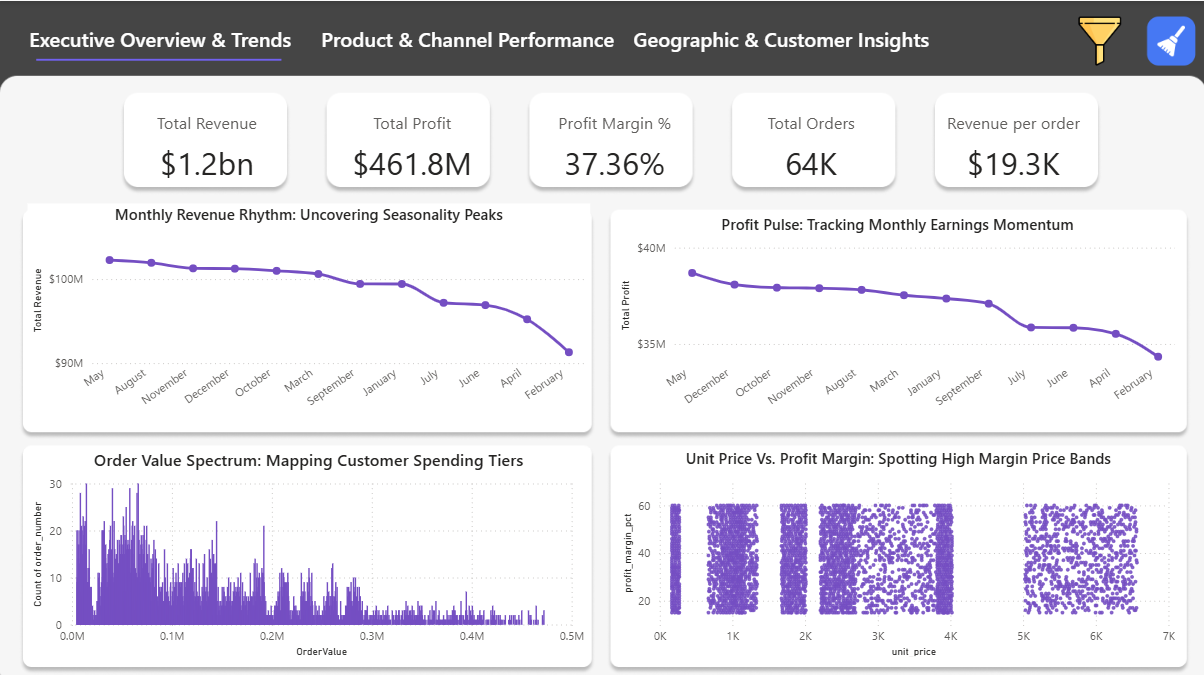

Layout of this report page (visuals, bound fields, positions):
{"tool":"powerbi","page":{"name":"Executive Overview & Trends","canvas":[1280,720],"ordinal":0},"visuals":[{"type":"cardVisual","title":"Total Revenue","fields":{"Data":["Measures_.Total Revenue"]},"box":[142,101,158,104],"z":0},{"type":"cardVisual","title":"Total Revenue","fields":{"Data":["Measures_.Total Profit"]},"box":[354.7,100.2,167,103.4],"z":1000},{"type":"cardVisual","title":"Total Revenue","fields":{"Data":["Measures_.Profit Margin %"]},"box":[569.4,100.2,167,103.4],"z":2000},{"type":"cardVisual","title":"Total Revenue","fields":{"Data":["Measures_.Total Orders"]},"box":[777.8,100.2,167,103.4],"z":3000},{"type":"cardVisual","title":"Total Revenue","fields":{"Data":["Measures_.Revenue per order"]},"box":[987.8,100.2,176.6,103.4],"z":4000},{"type":"lineChart","title":"Monthly Revenue Rhythm: Uncovering Seasonality Peaks","fields":{"Category":["Sales_data.order_month_name"],"Y":["Measures_.Total Revenue"]},"box":[30.2,214.7,596.5,237],"z":5000},{"type":"lineChart","title":" Profit Pulse: Tracking Monthly Earnings Momentum","fields":{"Category":["Sales_data.order_month_name"],"Y":["Measures_.Total Profit"]},"box":[653.7,225.9,598.1,225.9],"z":6000},{"type":"scatterChart","title":"Unit Price Vs. Profit Margin: Spotting High Margin Price Bands","fields":{"X":["Sales_data.unit_price"],"Y":["Sales_data.profit_margin_pct"]},"box":[655.3,474,596.5,225.9],"z":7000},{"type":"bookmarkNavigator","title":"Executive Overview & Trends","box":[12.7,25.4,316.5,35],"z":8000},{"type":"columnChart","title":"Order Value Spectrum: Mapping Customer Spending Tiers","fields":{"Category":["Order_Value_Distribution.OrderValue"],"Y":["CountNonNull(Order_Value_Distribution.order_number)"]},"box":[30.2,474,596.5,225.9],"z":9000},{"type":"bookmarkNavigator","title":"Product & Channel Performance","box":[338.8,25.4,316.5,35],"z":10000},{"type":"bookmarkNavigator","title":"Geographic & Customer Insights","box":[671.2,25.4,316.5,35],"z":11000},{"type":"image","box":[1129.3,11.1,76.3,62],"z":12000},{"type":"image","box":[1205.7,11.1,74.8,62],"z":12001}]}

Visuals, with their boxes in screenshot pixels (x1, y1, x2, y2), scaled from the page's 1280x720 canvas onto the 1204x675 screenshot:
"Total Revenue" cardVisual: {"left": 134, "top": 95, "right": 282, "bottom": 192}
"Total Revenue" cardVisual: {"left": 334, "top": 94, "right": 491, "bottom": 191}
"Total Revenue" cardVisual: {"left": 536, "top": 94, "right": 693, "bottom": 191}
"Total Revenue" cardVisual: {"left": 732, "top": 94, "right": 889, "bottom": 191}
"Total Revenue" cardVisual: {"left": 929, "top": 94, "right": 1095, "bottom": 191}
"Monthly Revenue Rhythm: Uncovering Seasonality Peaks" lineChart: {"left": 28, "top": 201, "right": 589, "bottom": 423}
" Profit Pulse: Tracking Monthly Earnings Momentum" lineChart: {"left": 615, "top": 212, "right": 1177, "bottom": 424}
"Unit Price Vs. Profit Margin: Spotting High Margin Price Bands" scatterChart: {"left": 616, "top": 444, "right": 1177, "bottom": 656}
"Executive Overview & Trends" bookmarkNavigator: {"left": 12, "top": 24, "right": 310, "bottom": 57}
"Order Value Spectrum: Mapping Customer Spending Tiers" columnChart: {"left": 28, "top": 444, "right": 589, "bottom": 656}
"Product & Channel Performance" bookmarkNavigator: {"left": 319, "top": 24, "right": 616, "bottom": 57}
"Geographic & Customer Insights" bookmarkNavigator: {"left": 631, "top": 24, "right": 929, "bottom": 57}
image: {"left": 1062, "top": 10, "right": 1134, "bottom": 69}
image: {"left": 1134, "top": 10, "right": 1203, "bottom": 69}
